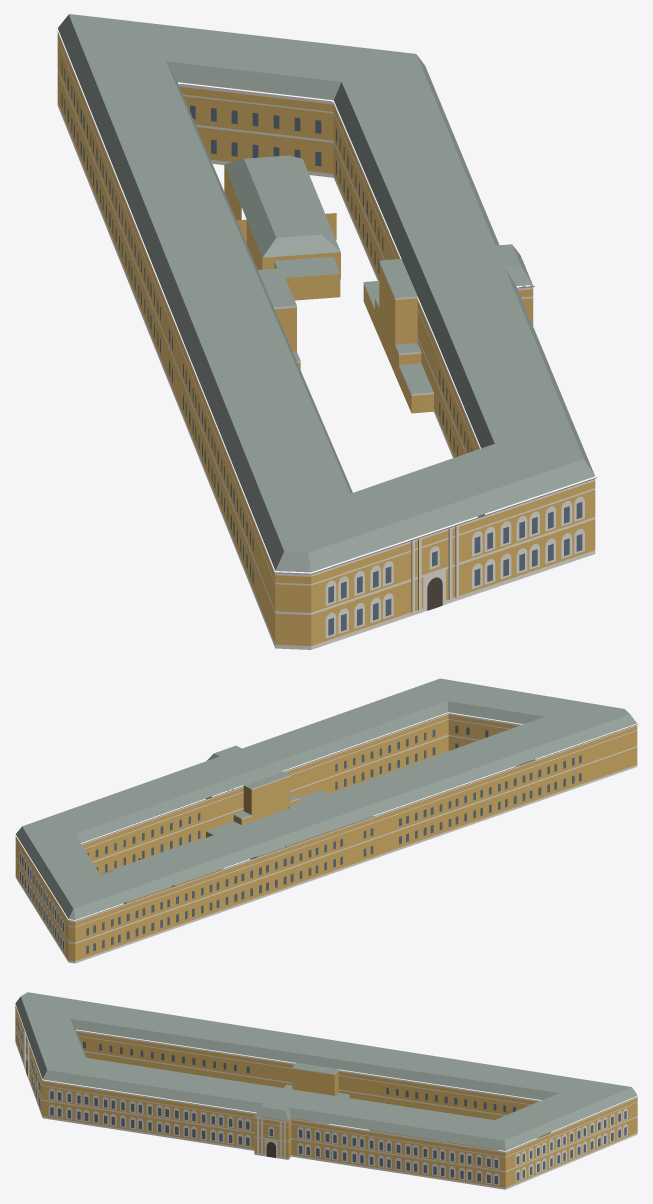
Rendered from moscow-arsenal.glb.
3 renders of one model, top to bottom at view 1: azimuth 30°, elevation 25°; view 2: azimuth 150°, elevation 25°; view 3: azimuth 270°, elevation 25°, orthographic. The views are drawn at different scales.
Parts seen in each view (by area): view 1: Arsenal; view 2: Arsenal; view 3: Arsenal.
Part boxes in pixels (left/top/right/bottom): Arsenal: left=57, top=14, right=597, bottom=649; Arsenal: left=15, top=678, right=637, bottom=963; Arsenal: left=15, top=992, right=637, bottom=1189.
Size of the model in its own units: 172 by 24.02 by 293.
